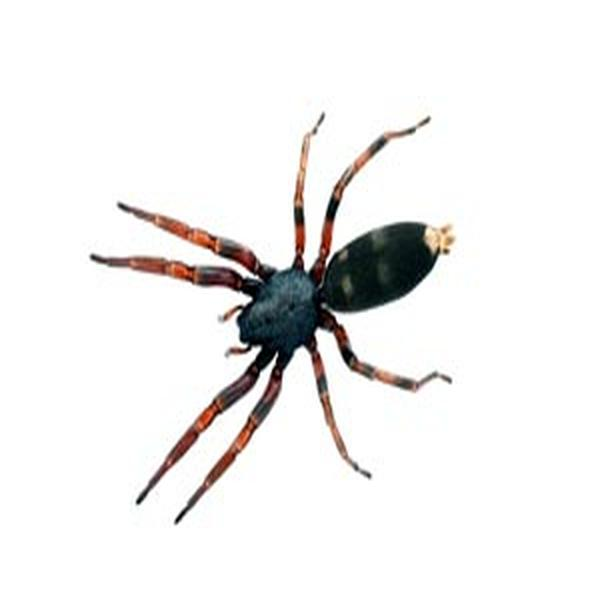White-Tailed_Spider: (91, 111, 456, 525)
